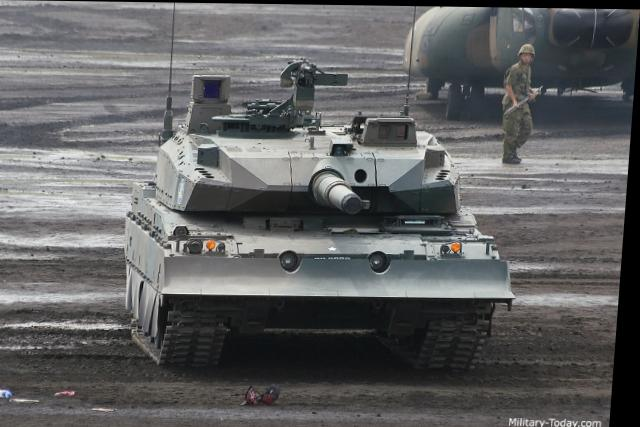other: (499, 41, 542, 157)
tank: (127, 80, 514, 353)
